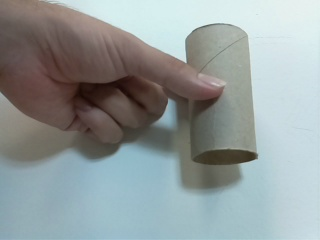rollo papel: (181, 22, 264, 167)
